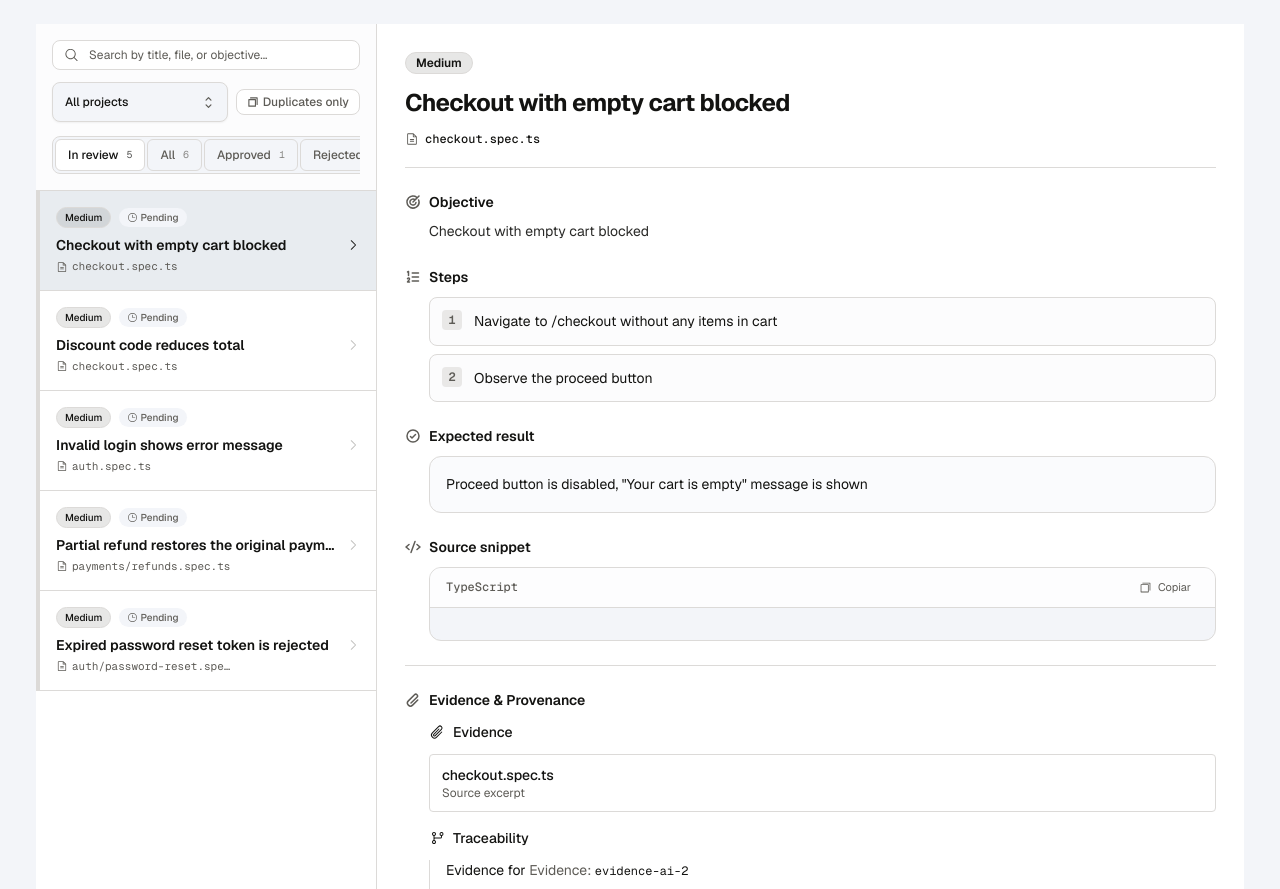
Scenario: ReviewInboxPage › allows filtering proposals by project
Step 1. Click the dropdown labelled "All projects" → (140, 102), box left=52, top=82, right=228, bottom=122
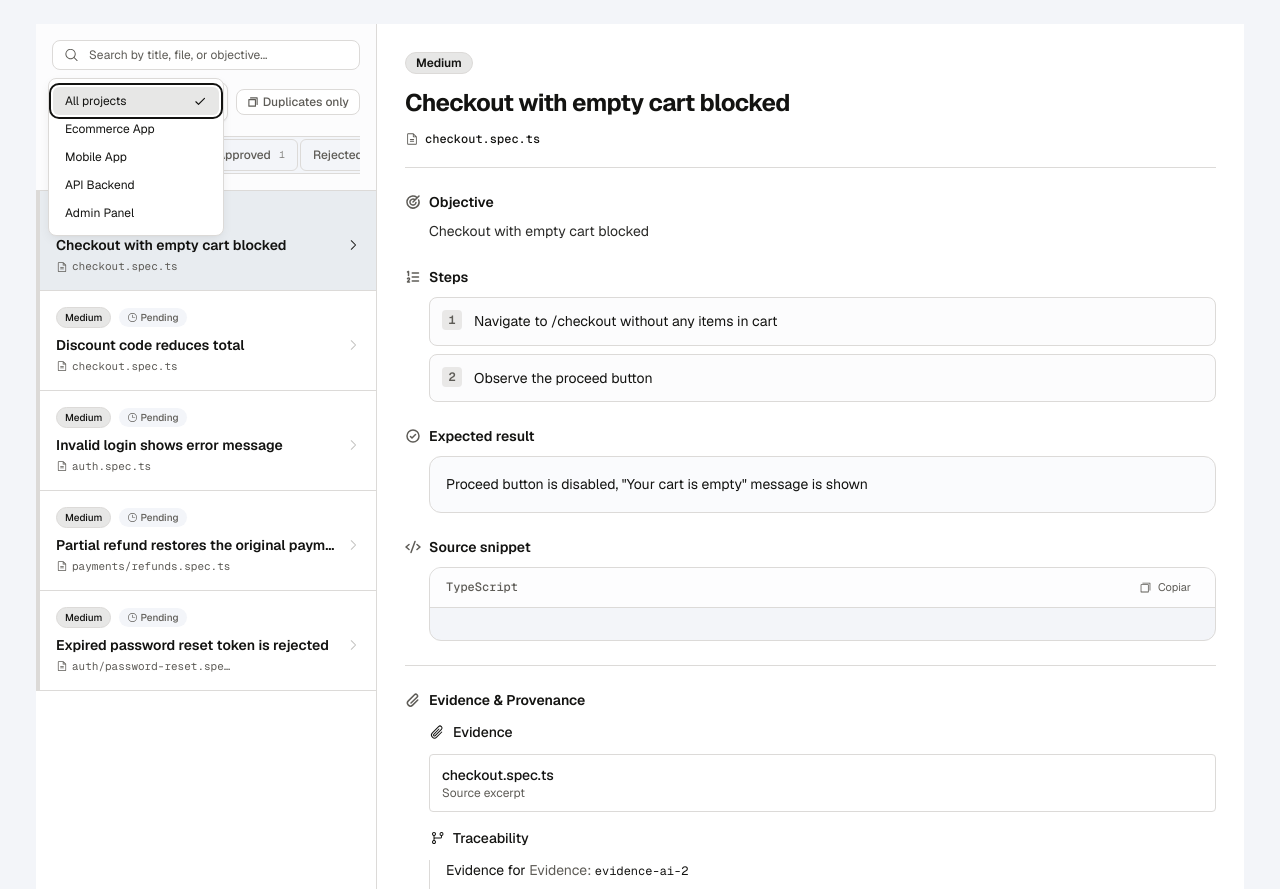
Step 2. Click the option "Ecommerce App" → (110, 129), box left=65, top=121, right=155, bottom=137
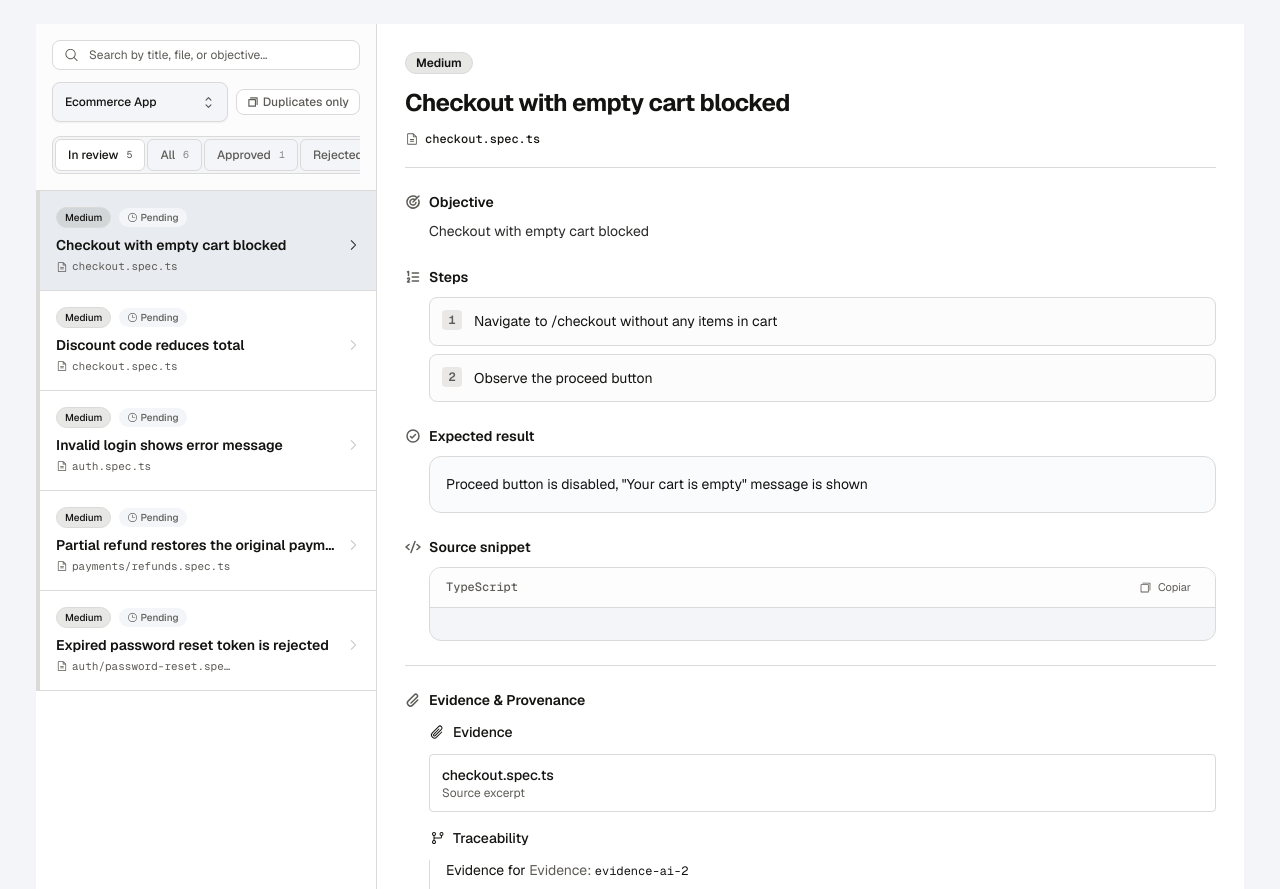
Check: the text "Invalid login shows error message" is shown, box left=56, top=436, right=283, bottom=454
Check: the dropdown named "Project" reads "Ecommerce App"
Step 3. Click the dropdown named "Project" → (140, 102), box left=52, top=82, right=228, bottom=122
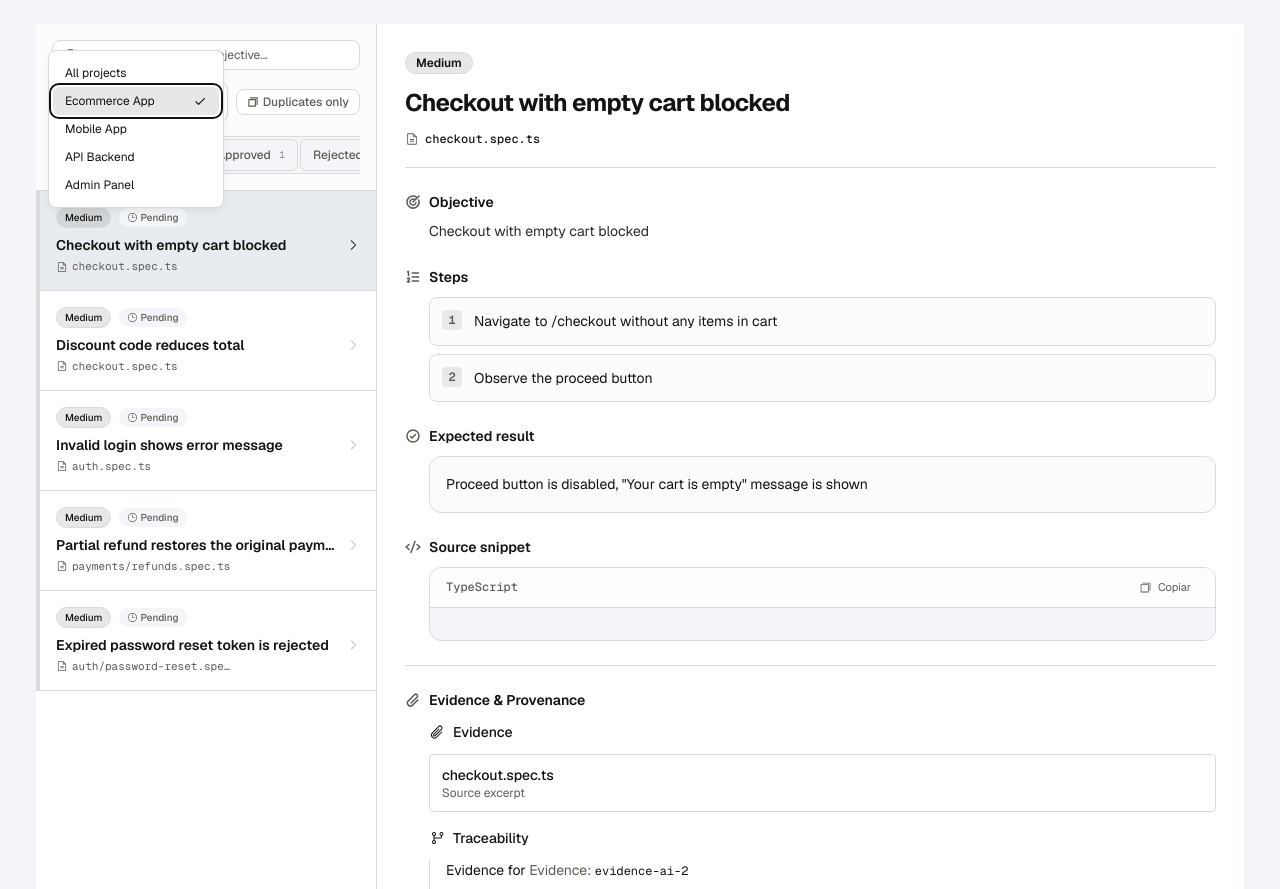
Step 4. Click the option "Mobile App" → (96, 129), box left=65, top=121, right=127, bottom=137
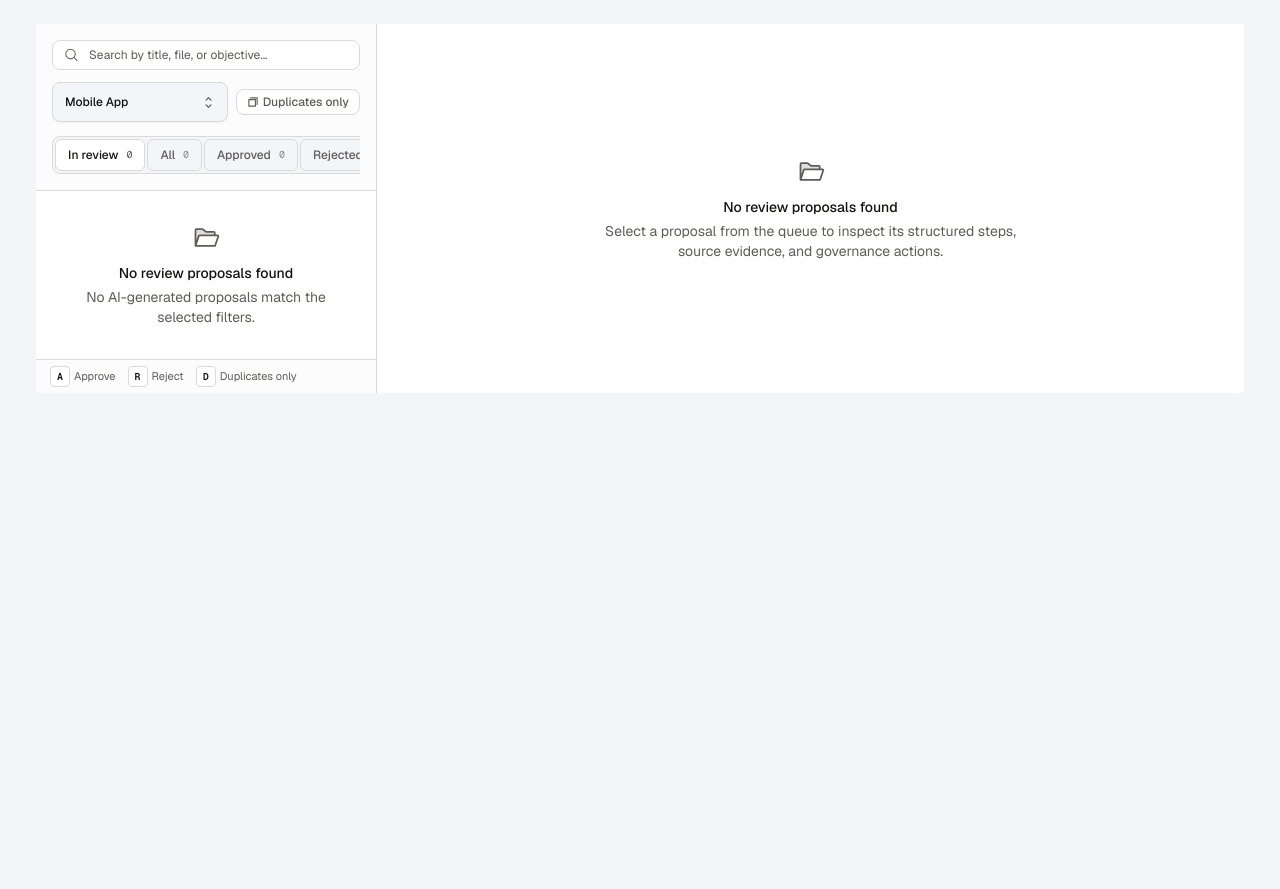
Check: the dropdown named "Project" reads "Mobile App", box left=52, top=82, right=228, bottom=122
Check: the button "Invalid login shows error message" is gone
